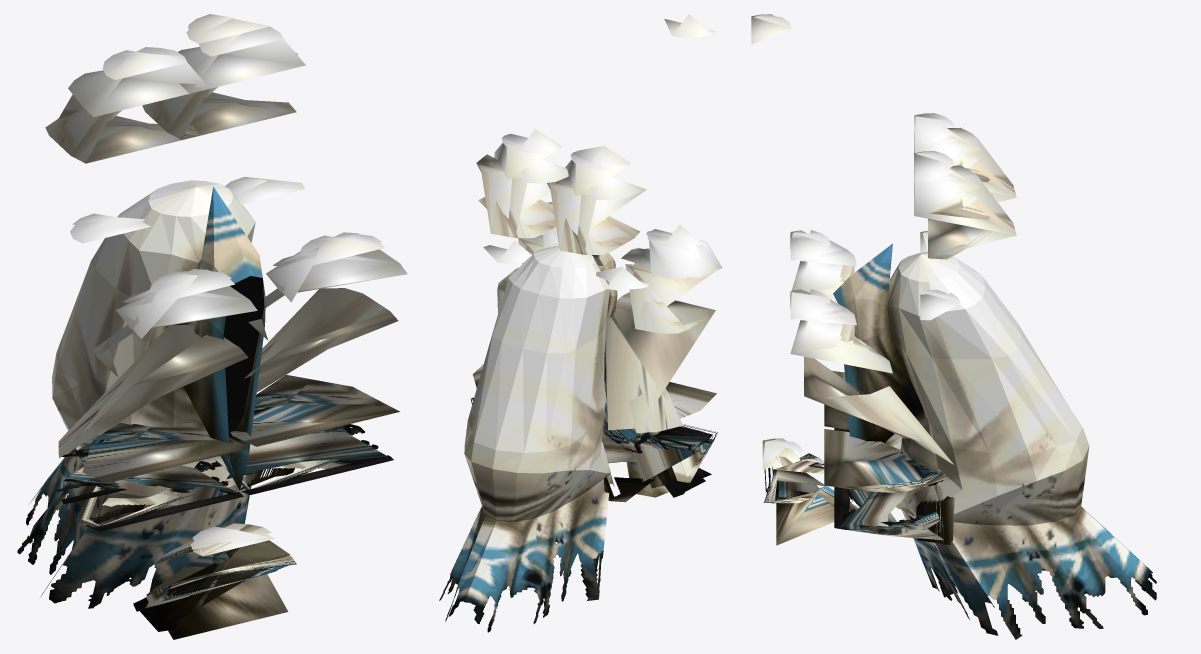
File: unmoba2.dae
3 renders of one model, left to right at view 1: azimuth 30°, elevation 25°; view 2: azimuth 150°, elevation 25°; view 3: azimuth 270°, elevation 25°, orthographic. The views are drawn at different scales.
Parts seen in each view (by area): view 1: bd, rh3, lh3, kosa00, rh1, lh1, rh2, baserh3, lh2; view 2: bd, rh3, rh1, lh1, kosa00, lh3, rh2, baserh3, lh2; view 3: bd, lh3, lh1, kosa00, rh3, rh1, lh2, baserh3.
Part boxes in pixels (bbox=[...]): bd: bbox=[17, 180, 265, 608]; rh3: bbox=[56, 269, 257, 531]; lh3: bbox=[211, 232, 407, 494]; kosa00: bbox=[133, 523, 296, 639]; rh1: bbox=[45, 47, 209, 163]; lh1: bbox=[142, 27, 305, 139]; rh2: bbox=[70, 213, 150, 243]; baserh3: bbox=[186, 14, 270, 43]; lh2: bbox=[225, 177, 304, 204]; bd: bbox=[439, 246, 617, 632]; rh3: bbox=[602, 224, 722, 502]; rh1: bbox=[547, 146, 646, 254]; lh1: bbox=[476, 129, 568, 238]; kosa00: bbox=[626, 424, 717, 497]; lh3: bbox=[470, 202, 558, 404]; rh2: bbox=[596, 266, 649, 290]; baserh3: bbox=[664, 14, 715, 37]; lh2: bbox=[483, 240, 531, 264]; bd: bbox=[833, 243, 1156, 639]; lh3: bbox=[790, 289, 954, 544]; lh1: bbox=[914, 151, 1016, 259]; kosa00: bbox=[762, 438, 858, 545]; rh3: bbox=[790, 230, 902, 449]; rh1: bbox=[914, 113, 1016, 221]; lh2: bbox=[920, 290, 960, 320]; baserh3: bbox=[751, 14, 791, 44].
Bounding box in the file's own units: 1.1 × 1.67 × 2.38.
1 material, 1 textured.
